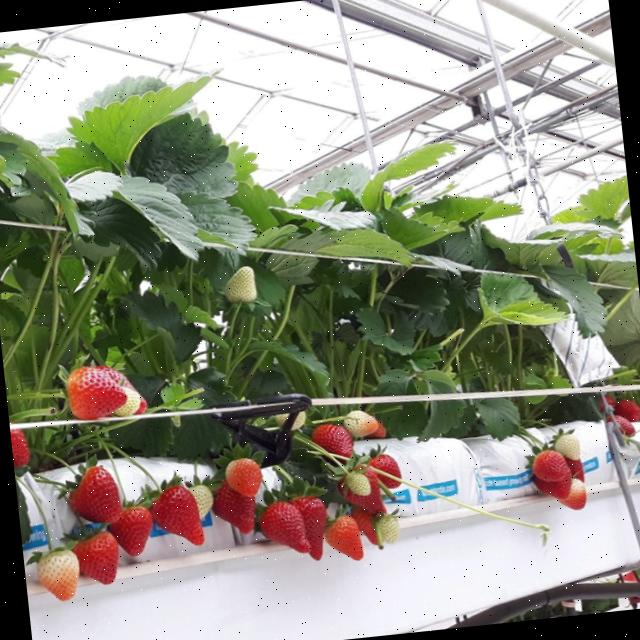Ripe Strawberry: (258, 494, 333, 565), (343, 462, 391, 548), (64, 366, 128, 428), (530, 446, 587, 514), (64, 462, 124, 522), (149, 483, 202, 547), (67, 531, 123, 589), (207, 476, 260, 537), (104, 502, 154, 554), (308, 420, 354, 462), (600, 394, 640, 439), (362, 454, 400, 494), (10, 427, 32, 470), (134, 398, 146, 413)
